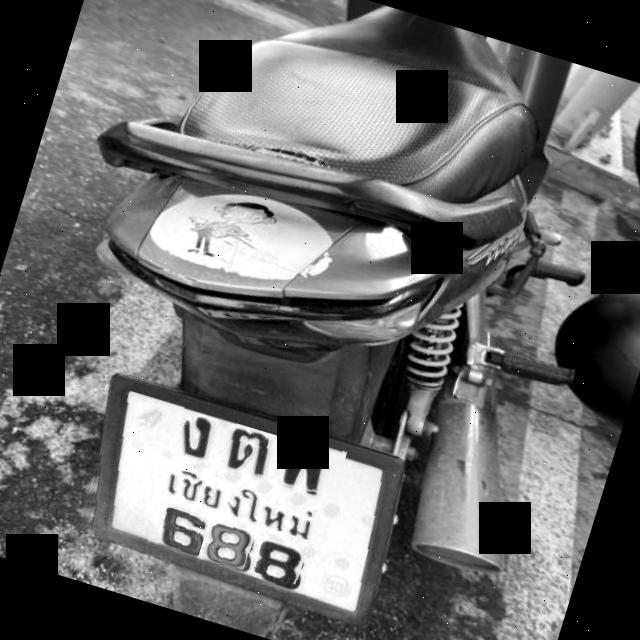letters: (269, 432, 347, 501), (213, 420, 281, 484), (196, 514, 258, 574), (168, 408, 220, 464), (154, 503, 204, 556), (252, 538, 306, 584)
license-plate: (98, 383, 390, 616)
province: (160, 457, 340, 546)
